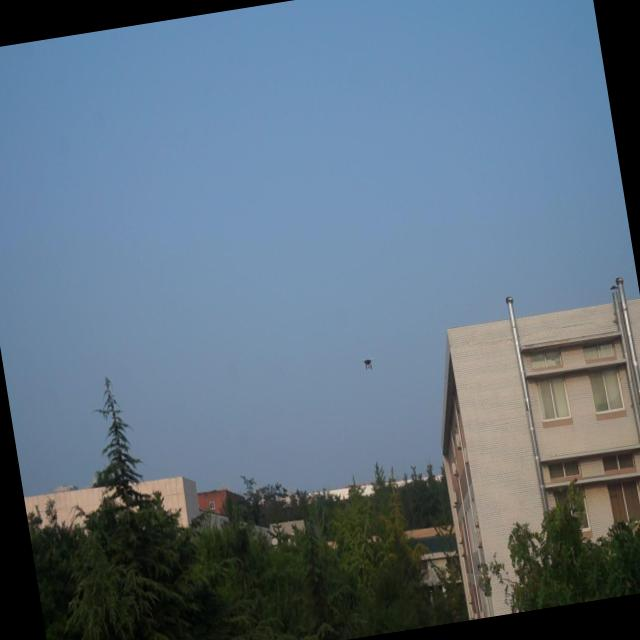drone: (360, 352, 376, 373)
